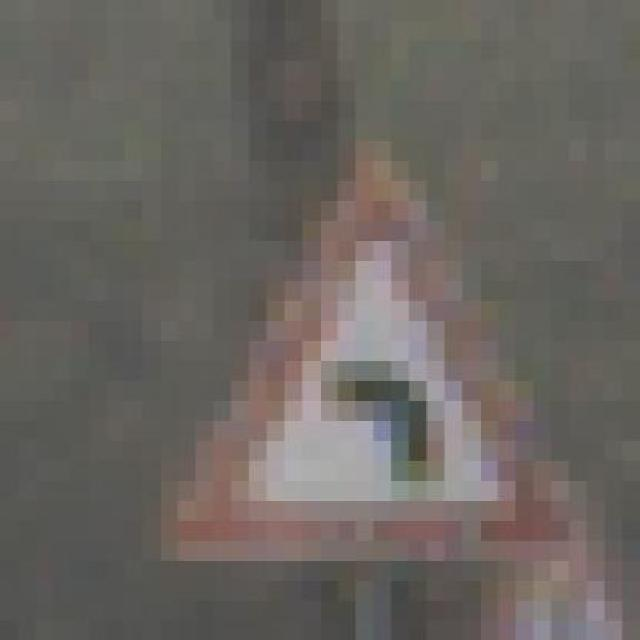Dangerous Left Curve Ahead: (143, 140, 552, 580)
